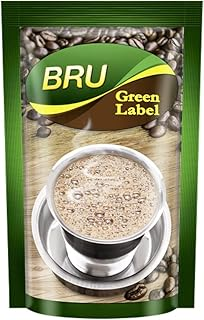Coffee: (1, 2, 195, 319)
